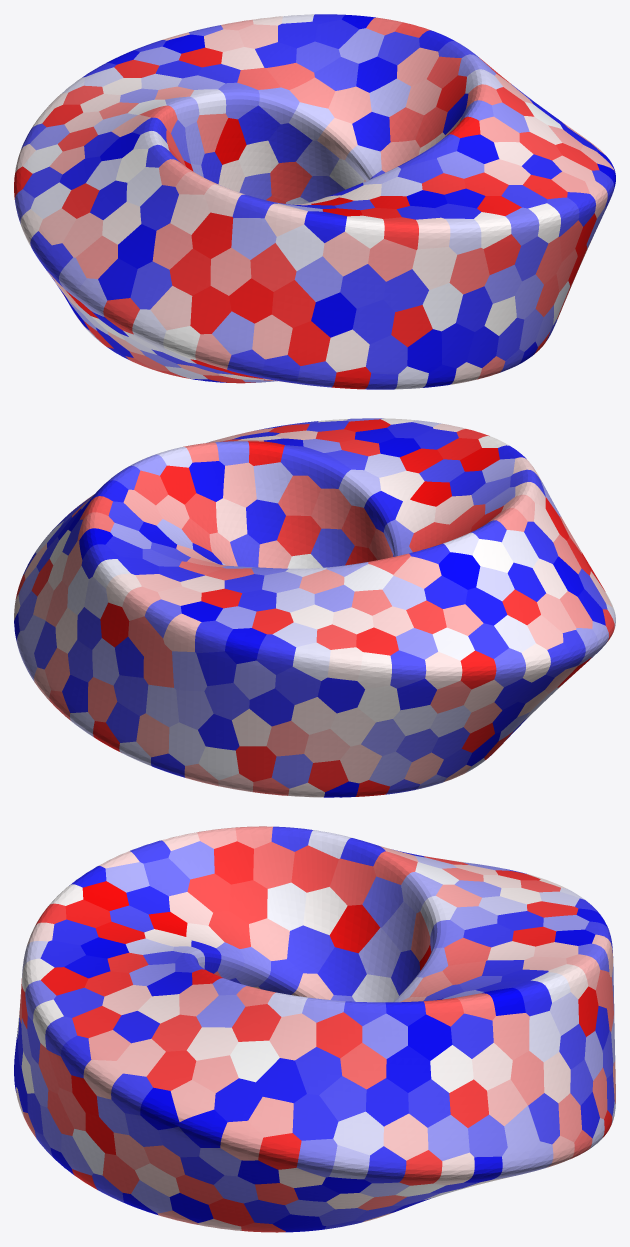
The model's file is Ours_600_mobius1_Iter32_RVD.obj.
The picture shows the model from 3 angles, top to bottom: view 1: azimuth 30°, elevation 25°; view 2: azimuth 150°, elevation 25°; view 3: azimuth 270°, elevation 25°; orthographic projection. The views are drawn at different scales.
Parts seen in each view (by area): view 1: 3D_Object; view 2: 3D_Object; view 3: 3D_Object.
Part boxes in pixels (left/top/right/bottom): 3D_Object: left=14, top=14, right=615, bottom=389; 3D_Object: left=14, top=418, right=615, bottom=797; 3D_Object: left=14, top=826, right=615, bottom=1232.
Size of the model in its own units: 6.8 by 2.63 by 6.26.
Materials: 1 (1 with a texture image).
